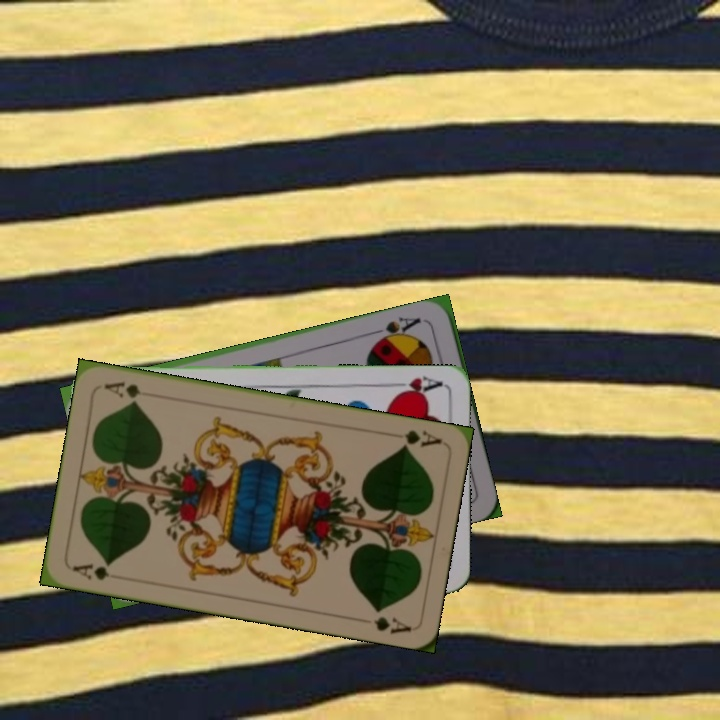GA: (68, 559, 126, 583), (398, 426, 445, 451)
HA: (385, 372, 444, 399)
SA: (372, 312, 428, 346)
